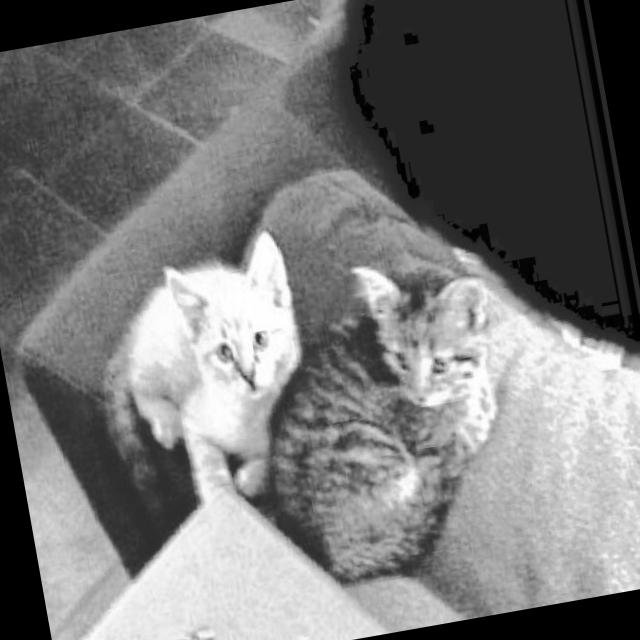Cat: (234, 236, 538, 600), (74, 222, 332, 559)
